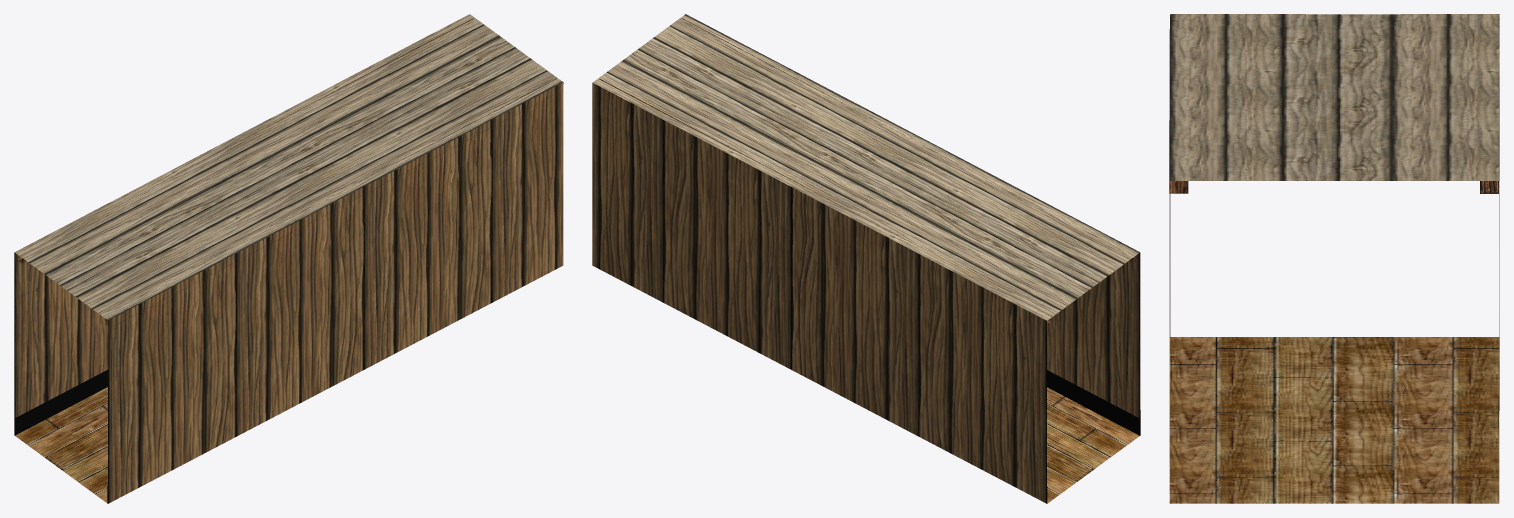
File: LAKETOWN_WAREHOUSE2_PS_WH2_HALLWAY994847__GX.fbx
3 views of the same model, side by side, from view 1: azimuth 30°, elevation 25°; view 2: azimuth 150°, elevation 25°; view 3: azimuth 270°, elevation 25° (orthographic). The views are drawn at different scales.
Parts seen in each view (by area): view 1: LAKETOWN_WAREHOUSE2_PS_WH2_HALLWAY994847__GX; view 2: LAKETOWN_WAREHOUSE2_PS_WH2_HALLWAY994847__GX; view 3: LAKETOWN_WAREHOUSE2_PS_WH2_HALLWAY994847__GX.
Boxes of the visible parts, left/top/right/bottom form: LAKETOWN_WAREHOUSE2_PS_WH2_HALLWAY994847__GX: left=14, top=14, right=563, bottom=503; LAKETOWN_WAREHOUSE2_PS_WH2_HALLWAY994847__GX: left=592, top=14, right=1140, bottom=503; LAKETOWN_WAREHOUSE2_PS_WH2_HALLWAY994847__GX: left=1169, top=14, right=1499, bottom=503.
Size of the model in its own units: 84345 by 55029 by 30080.
5 materials, 5 textured.
